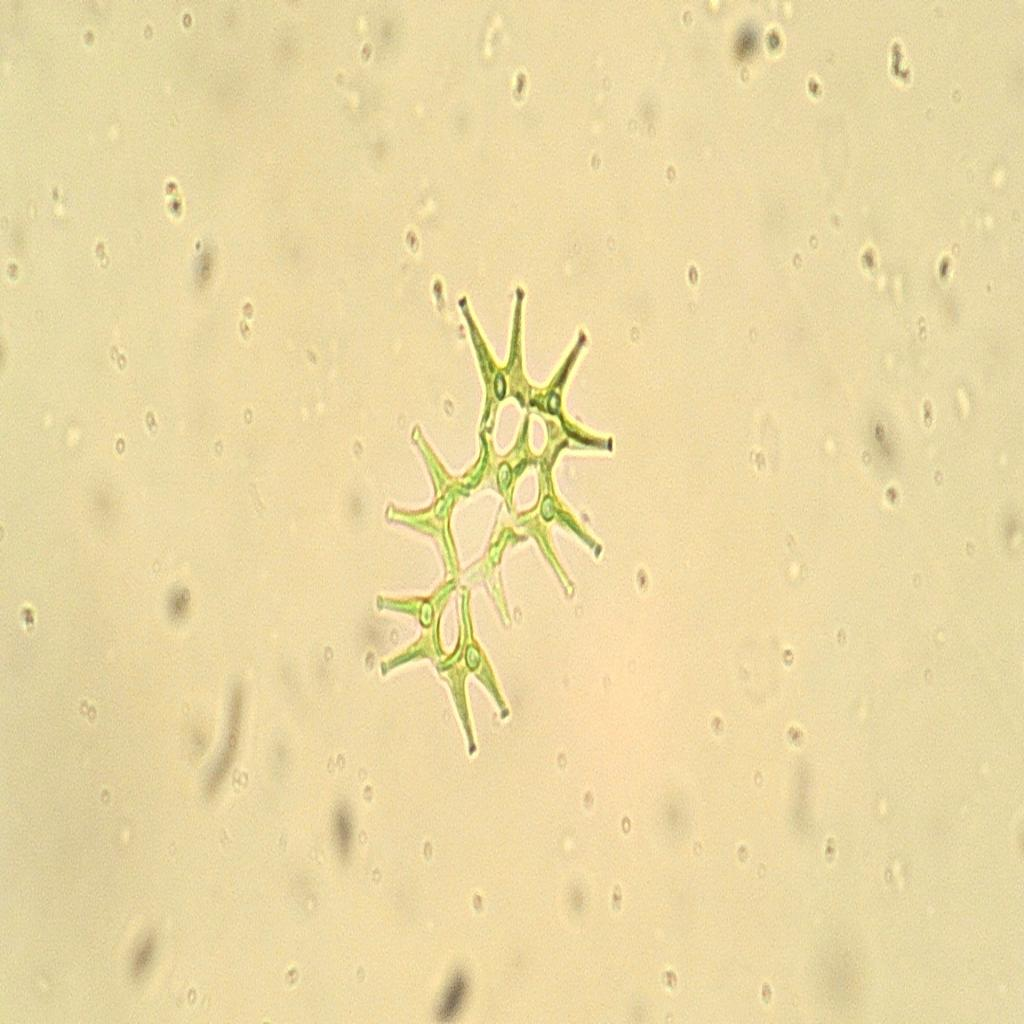Pediastrum_CFI: (362, 244, 620, 775)
